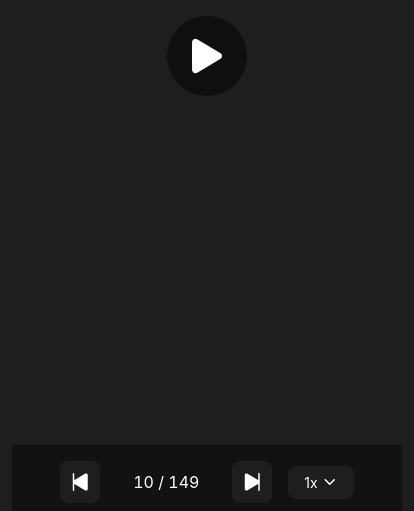
it: VideoPlayer › frame controls interaction › should navigate to previous frame
The image size is (414, 511).
Click the button with test id "frame-controls-prev" at (80, 482), box [60,461,100,503]
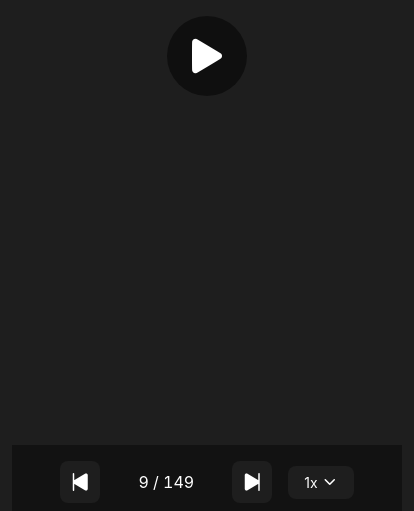
Expected: the text "9 / 149" is shown, [138,472,194,492]
